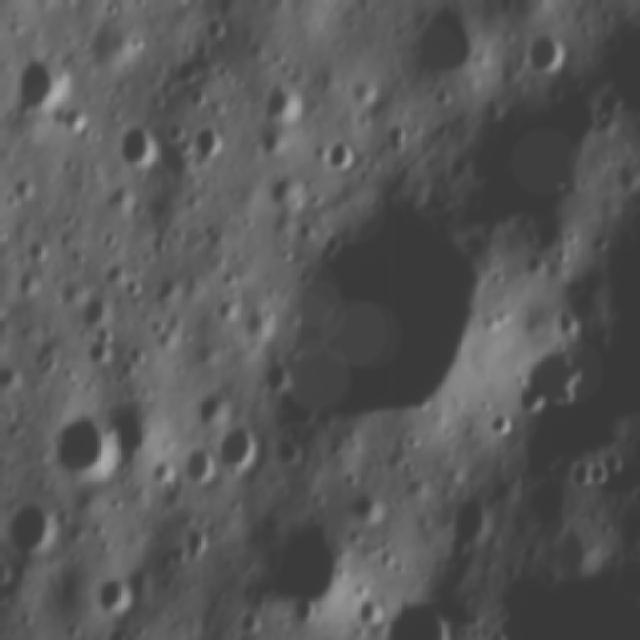crater: (269, 202, 491, 422), (256, 516, 353, 604), (41, 401, 125, 494), (407, 3, 478, 79), (6, 41, 68, 116), (520, 344, 582, 411), (381, 591, 454, 640), (6, 494, 56, 555), (114, 117, 163, 175), (116, 393, 158, 455), (259, 74, 306, 126), (218, 412, 255, 468), (523, 26, 565, 74), (191, 114, 229, 164), (92, 572, 137, 613), (284, 593, 322, 627), (322, 133, 356, 170), (182, 442, 212, 480), (256, 126, 289, 152), (58, 102, 91, 128), (490, 404, 518, 434), (570, 454, 595, 486), (599, 444, 627, 470), (103, 624, 131, 640)
